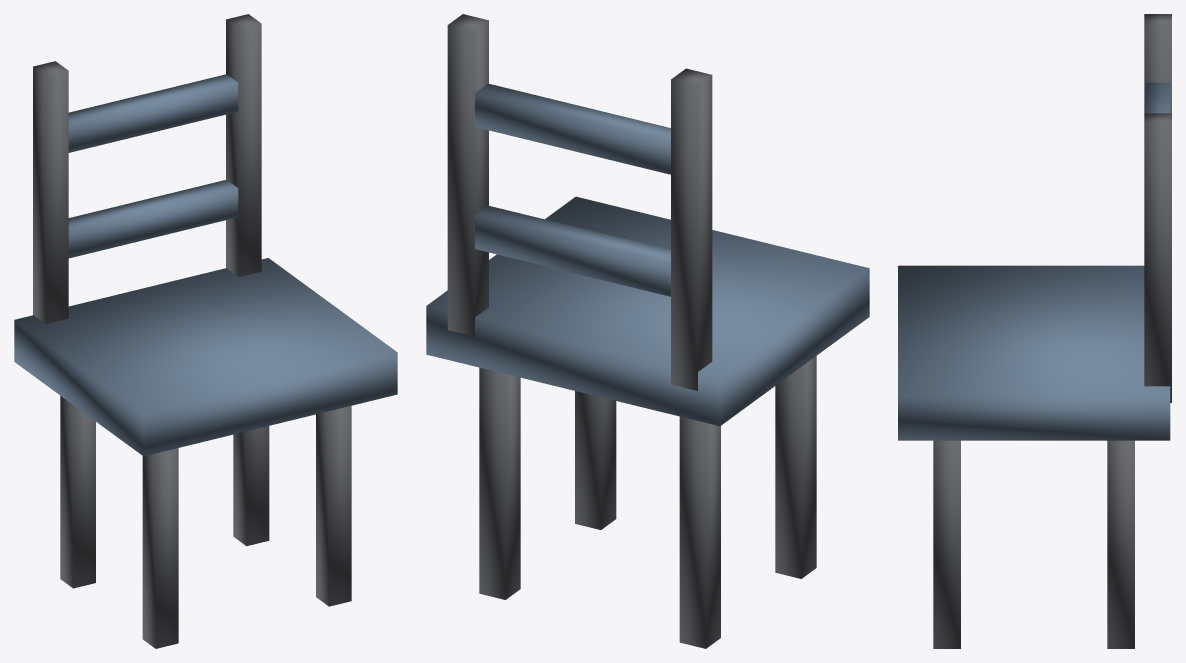
The model's file is interview_chair.glb.
The picture shows the model from 3 angles, left to right: view 1: azimuth 30°, elevation 25°; view 2: azimuth 150°, elevation 25°; view 3: azimuth 270°, elevation 25°; orthographic projection. The views are drawn at different scales.
Parts seen in each view (by area): view 1: world; view 2: world; view 3: world.
Part boxes in pixels (x1,y1,x2,y2): world: (14, 14, 397, 648); world: (426, 14, 869, 648); world: (898, 14, 1171, 648).
Size of the model in its own units: 0.5037 by 0.9515 by 0.4462.
